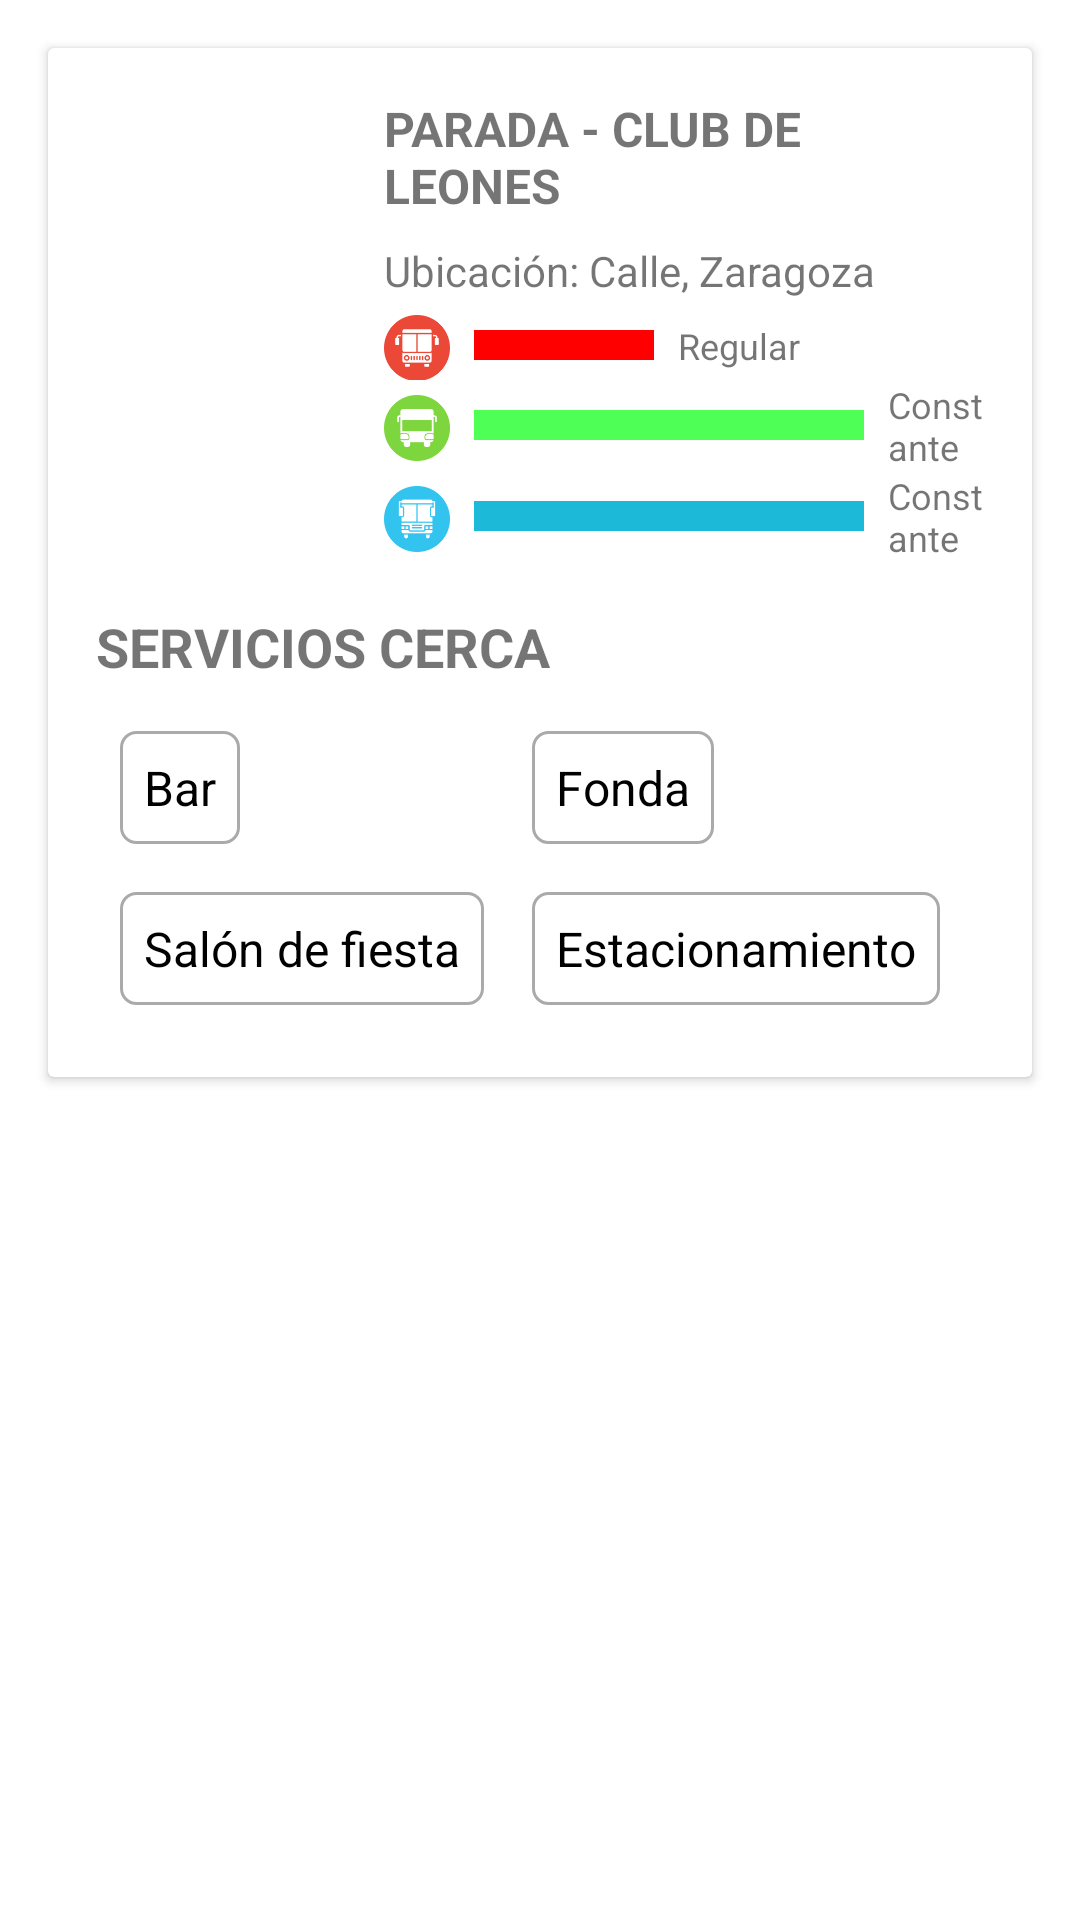

Locate icon controls on the screen. Image size 1080x1920, boxes as (x1, y1, x2, y2).
azules: (384, 486, 450, 552)
rojas: (384, 315, 450, 380)
verdes: (384, 395, 450, 461)
